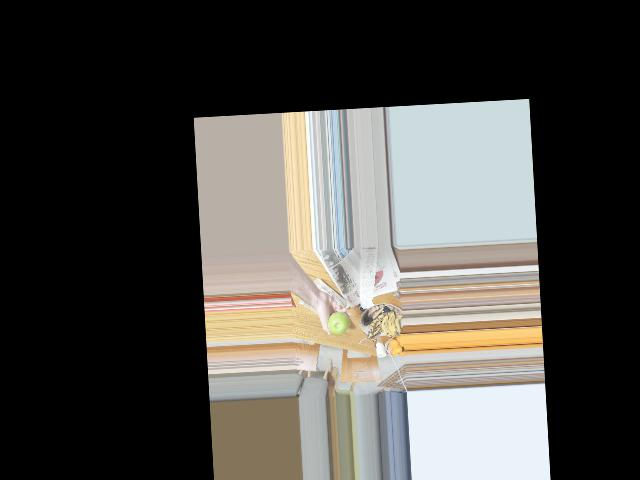apple: (325, 310, 348, 336)
